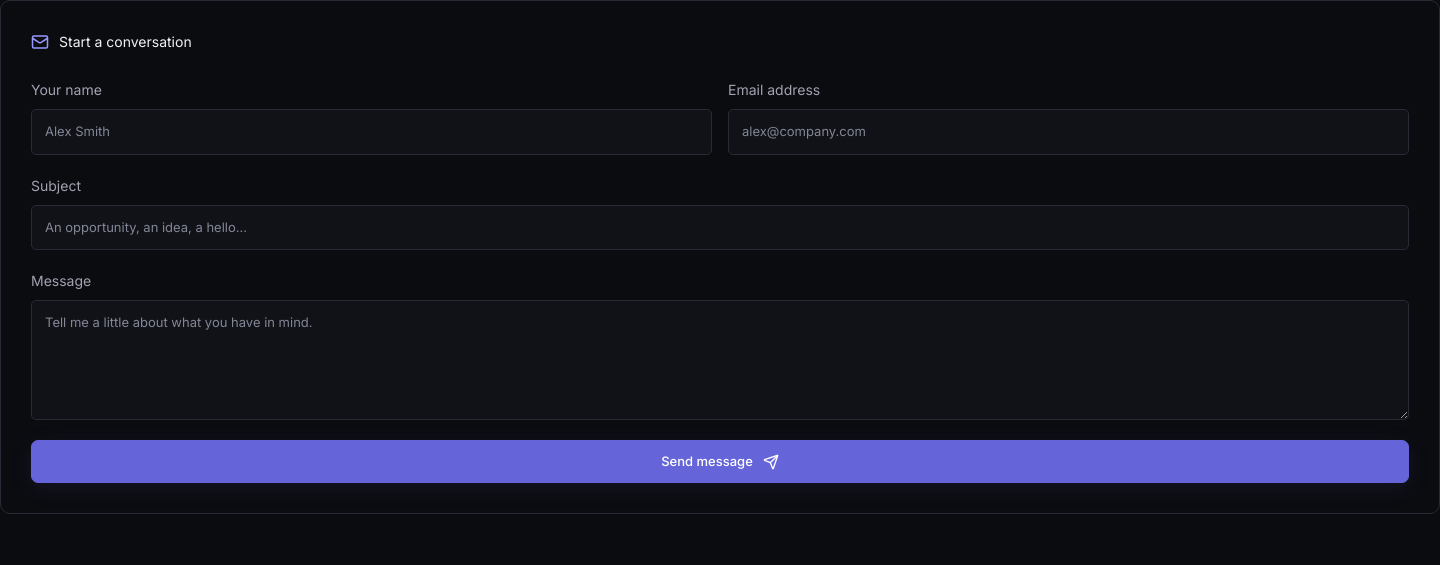
Scenario: Portfolio behavior › handles a configured form success only after provider confirmation
Type "Test Visitor" into the field labelled "Your name" at [372, 132], box [31,109,712,154]
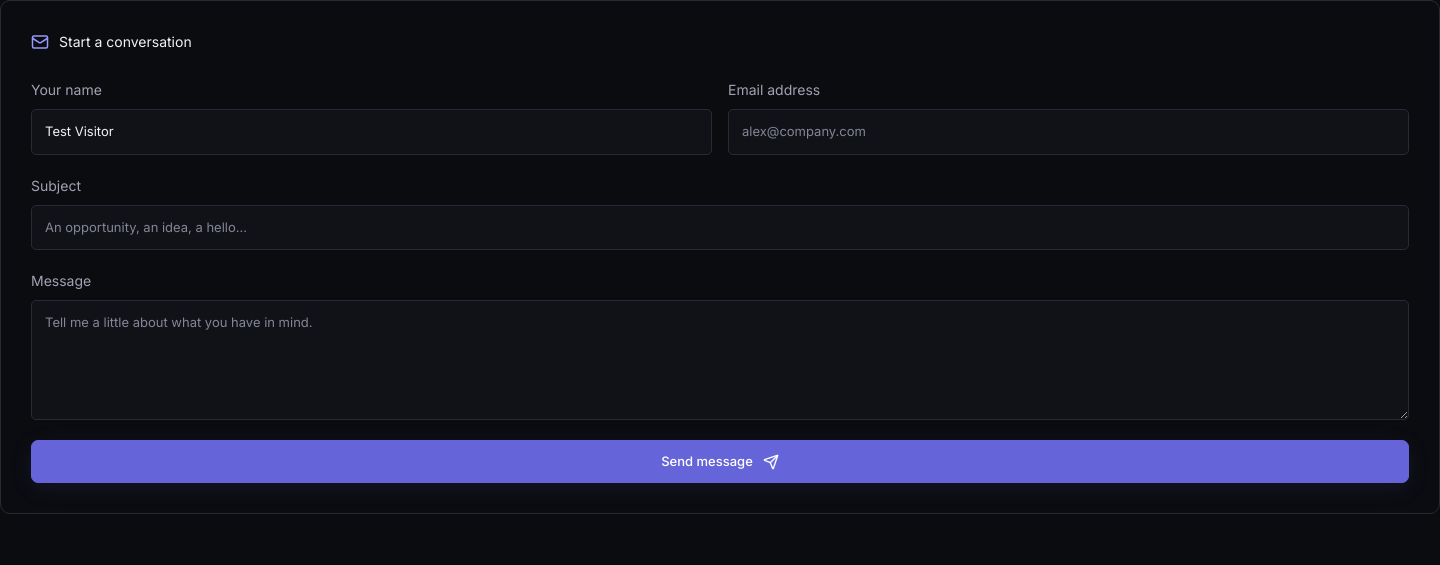
Type "test@example.com" into the field labelled "Email address" at [1068, 132], box [728,109,1409,154]
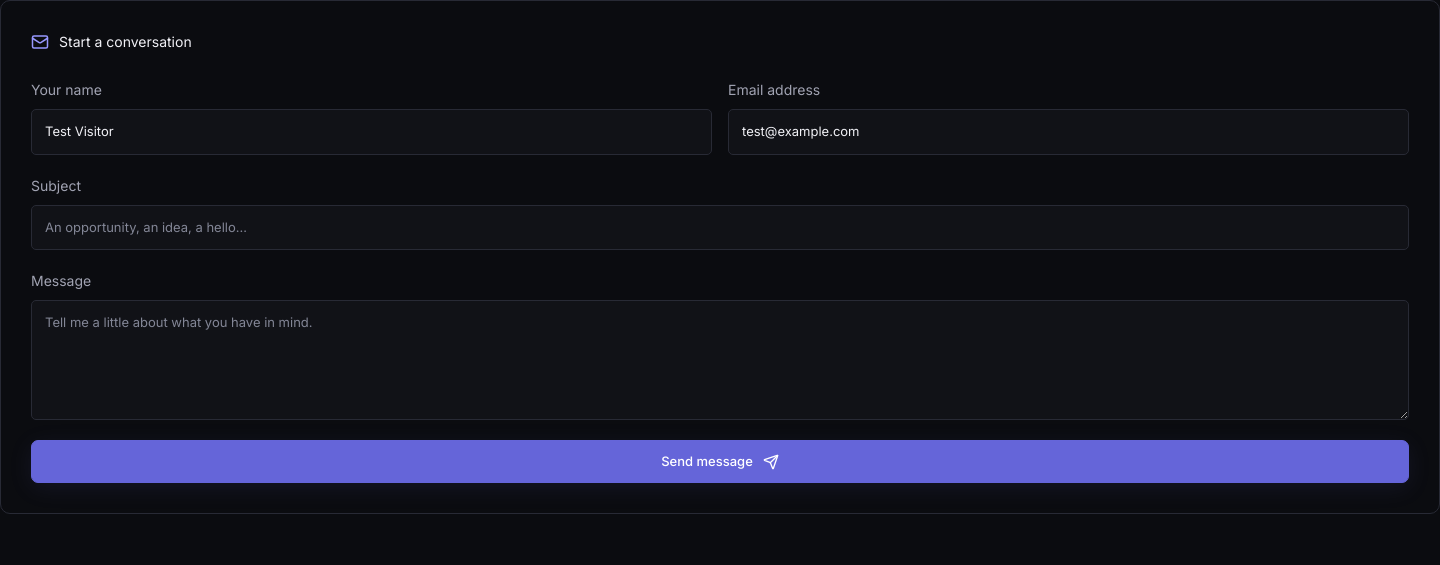
Type "Portfolio inquiry" into the field labelled "Subject" at [720, 227], box [31,204,1409,250]
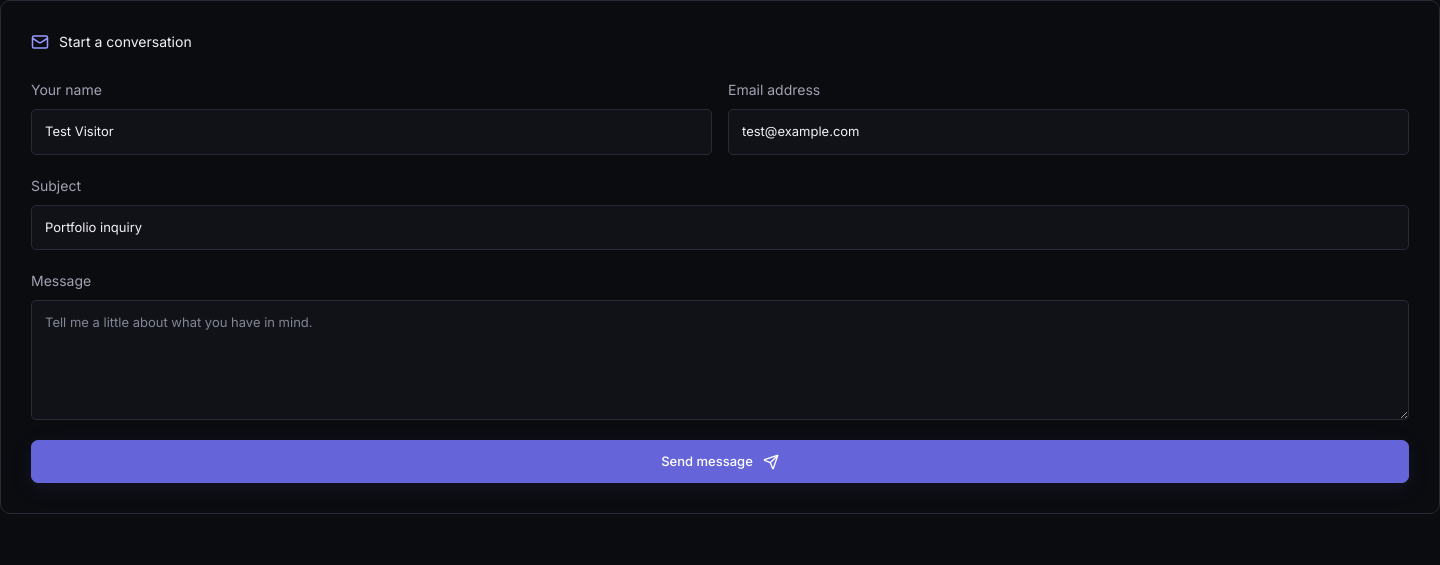
Type "This is a test inquiry, not a real message." into the text box labelled "Message" at [720, 360], box [31,300,1409,420]
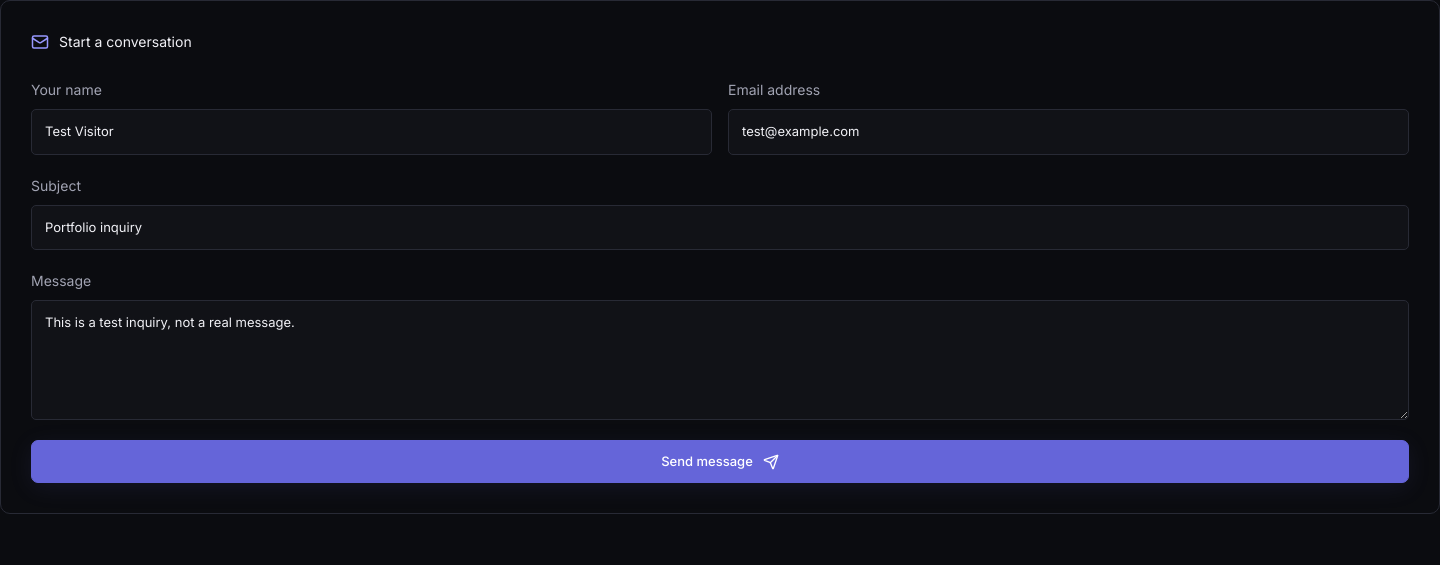
Submit the form "Send message"
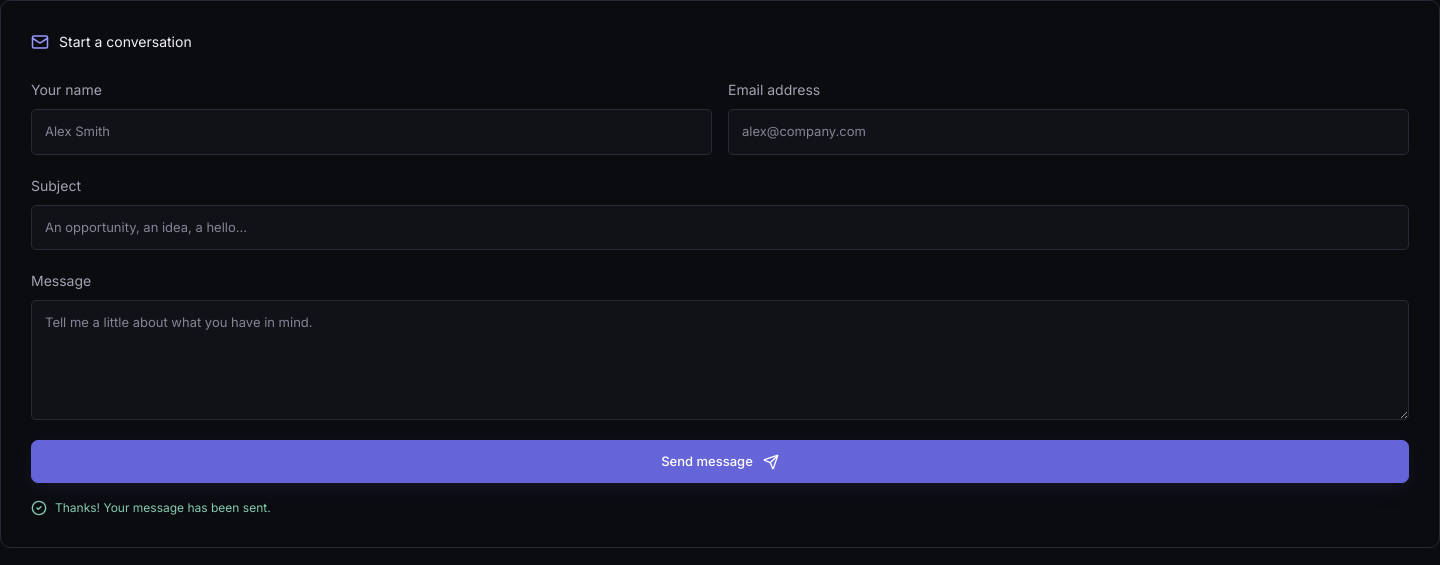
expect the text "Thanks! Your message has been sent." is shown: met, box [31,500,271,516]
expect the field labelled "Your name" is empty: met, box [31,109,712,154]
